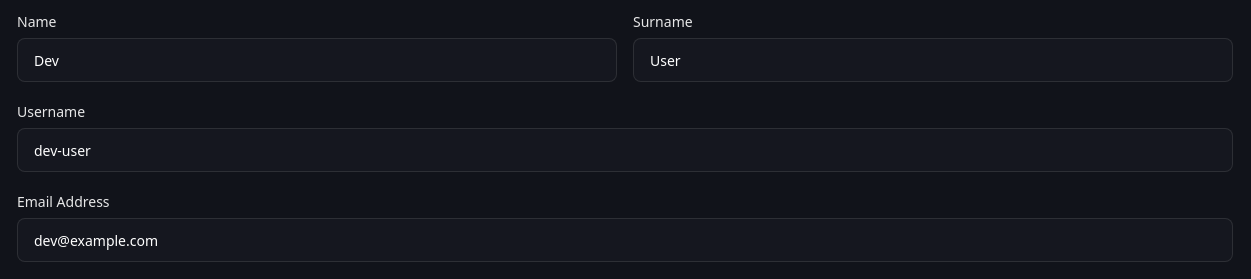
Scenario: IdentityFields › normalizes username input to lowercase while typing
This screenshot has width=1251, height=279.
In the field with placeholder "Username" below "Username": {"x": 625, "y": 150} [17, 128, 1233, 172], type "ABC"
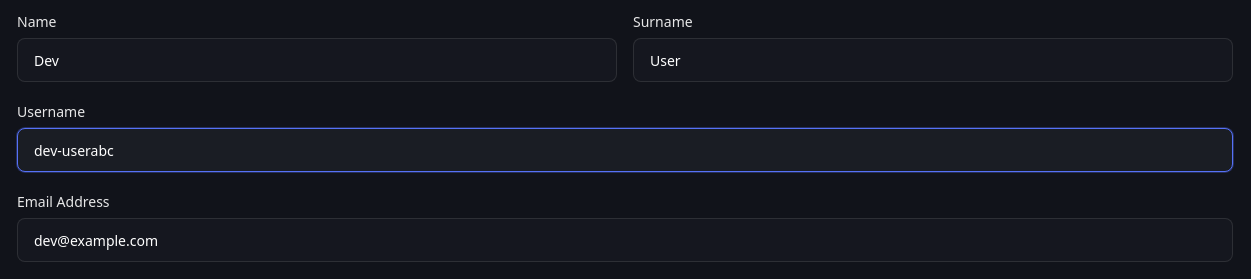
Result: the field with placeholder "Username" below "Username" holds "dev-userabc" at [17, 128, 1233, 172]
